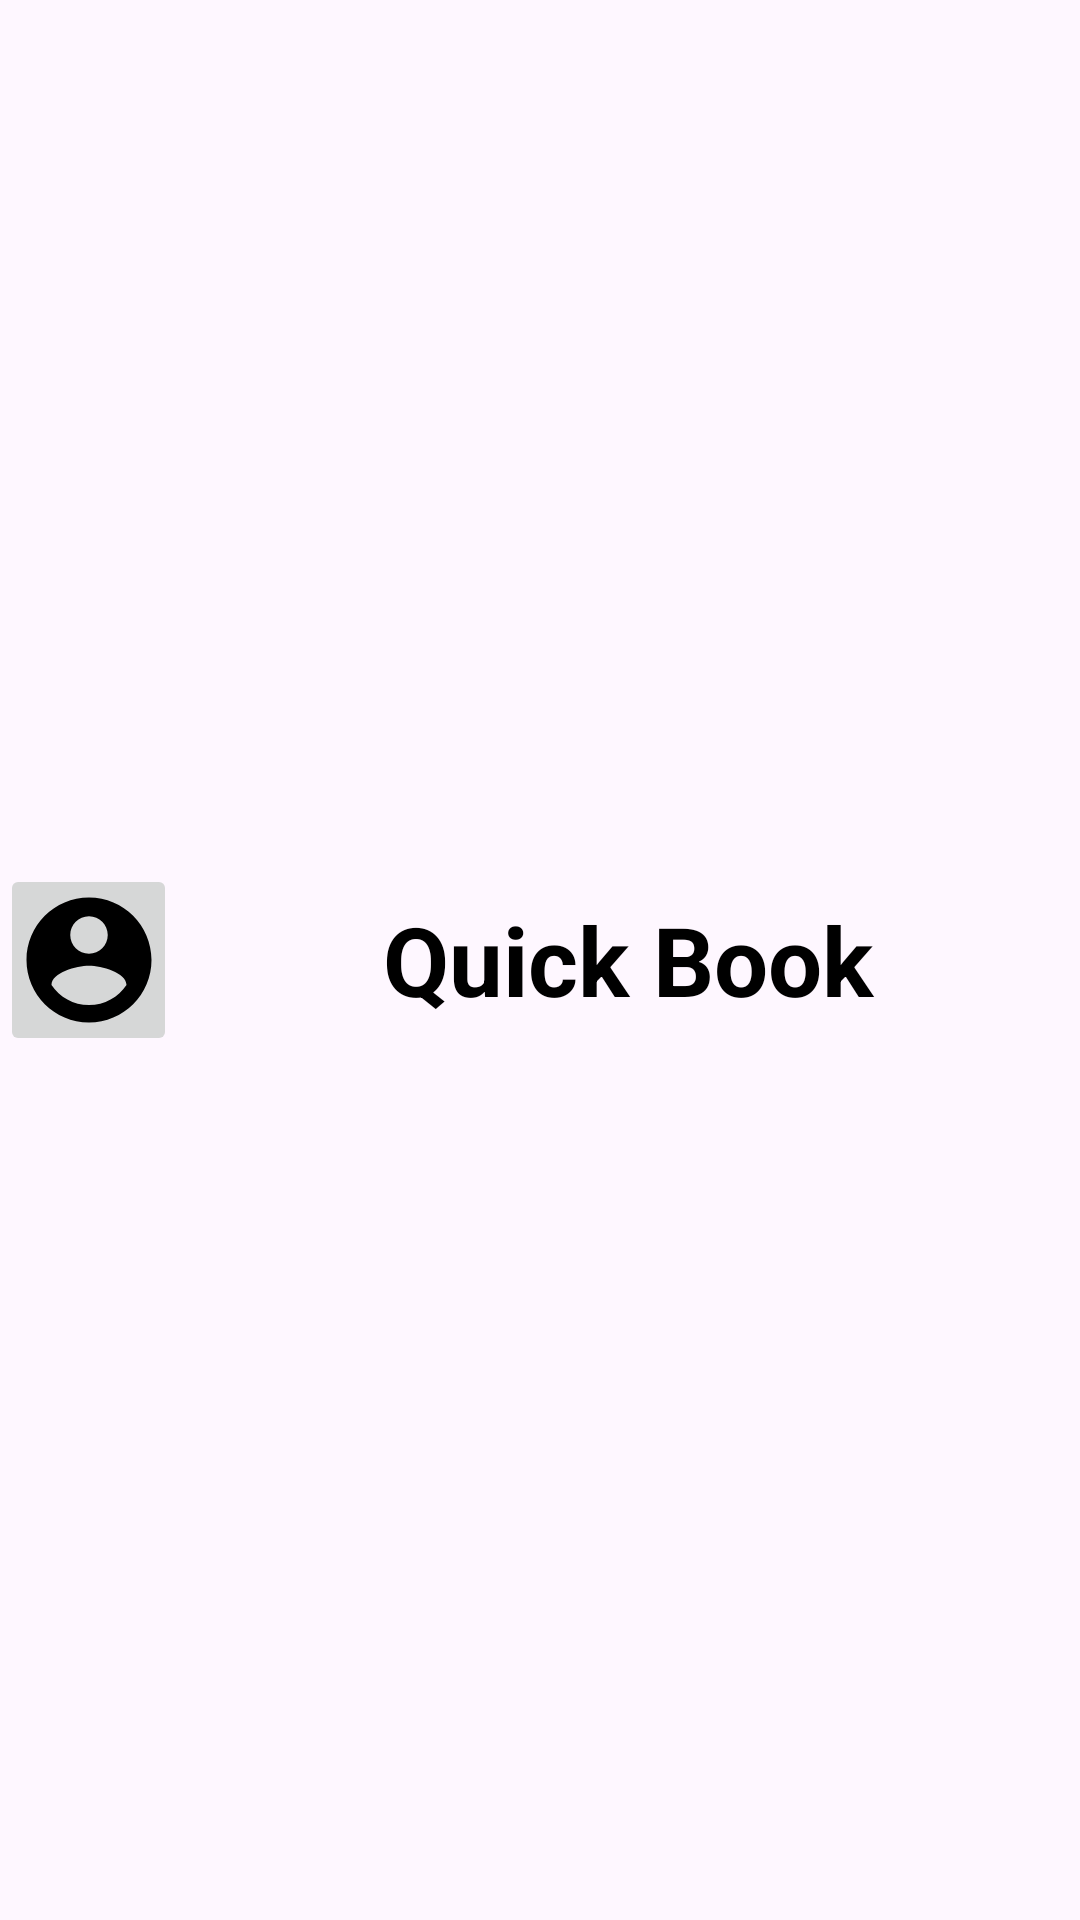

Screen size 1080w x 1920h. Icon name, then its center in pixels as point (x, y):
account circle: point (88, 960)
